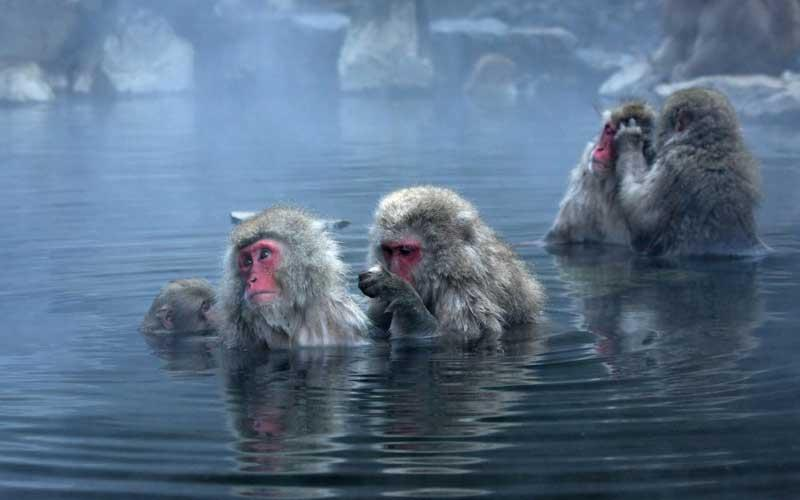monkey: (355, 186, 548, 366)
